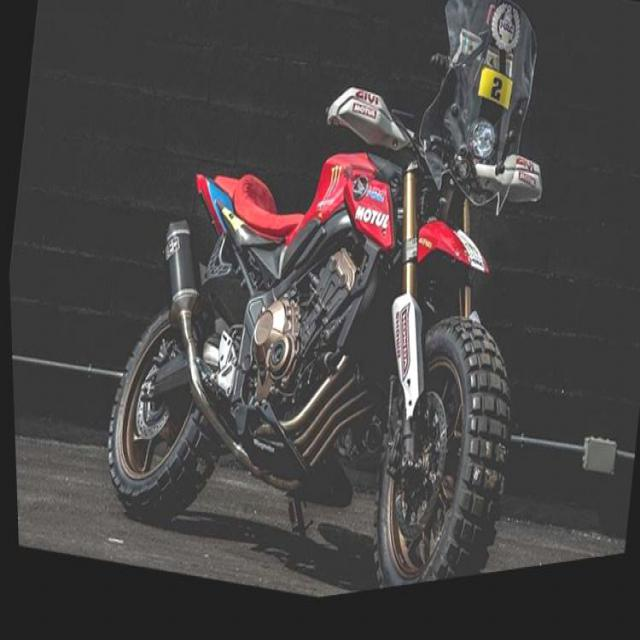CB650R: (77, 44, 548, 630)
